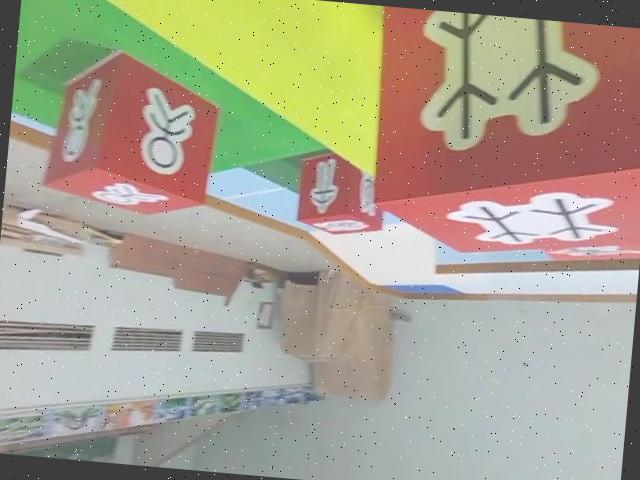R2 Fake: (292, 147, 388, 240)
R2 Real: (357, 4, 640, 270), (36, 44, 225, 224)
